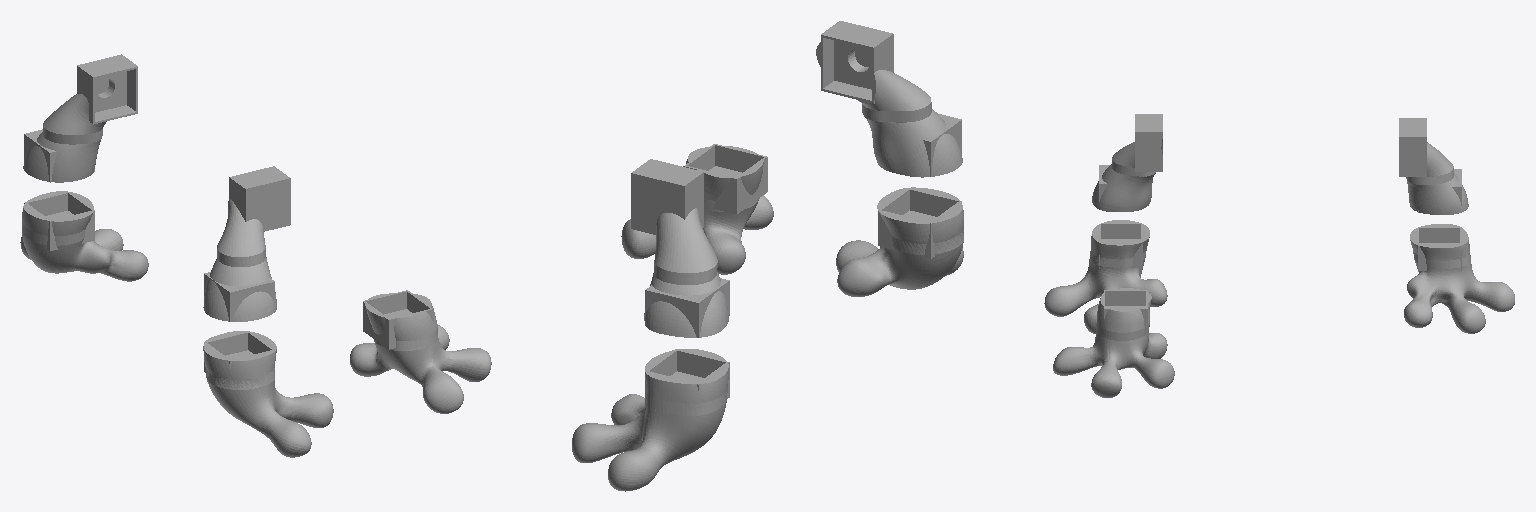
URDF robot description (FrogBot1_top-FrogBot1-x-2_bottom-FrogBot1-x-2):
<?xml version="1.0" ?>
<robot name="FrogBot1_top-FrogBot1-x-2_bottom-FrogBot1-x-2">

<material name="pla_5_percent_infill">
  <color rgba="0.700 0.700 0.700 1.000"/>
</material>

<link name="base_link">
  <inertial>
    <origin xyz="0 0 0" rpy="0 0 0"/>
    <mass value="1.4103143072721238"/>
    <inertia ixx="0.004671865419262023" iyy="0.01102984328633242" izz="0.011972094032648898" ixy="0.00015185420958179873" iyz="8.583160306759328e-05" ixz="-0.0012132770853355082"/>
  </inertial>
  <visual>
    <origin xyz="0 0 0" rpy="0 0 0"/>
    <geometry>
      <mesh filename="simple_meshes/base_link.stl" scale="0.001 0.001 0.001"/>
    </geometry>
    <material name="pla_5_percent_infill"/>
  </visual>
  <collision>
    <origin xyz="0 0 0" rpy="0 0 0"/>
    <geometry>
      <mesh filename="simple_meshes/base_link.stl" scale="0.001 0.001 0.001"/>
    </geometry>
  </collision>
</link>

<link name="body_1_0_1">
  <inertial>
    <origin xyz="-0.045735 -0.109621 -0.00462" rpy="0 0 0"/>
    <mass value="0.03484160030997429"/>
    <inertia ixx="2.903697898275757e-05" iyy="3.104325005473165e-05" izz="1.3532378195367945e-05" ixy="-4.11931829958159e-07" iyz="2.4187383565985482e-06" ixz="4.625253965977592e-07"/>
  </inertial>
  <visual>
    <origin xyz="-0.045735 -0.109621 -0.00462" rpy="0 0 0"/>
    <geometry>
      <mesh filename="simple_meshes/body_1_0_1.stl" scale="0.001 0.001 0.001"/>
    </geometry>
    <material name="pla_5_percent_infill"/>
  </visual>
  <collision>
    <origin xyz="-0.045735 -0.109621 -0.00462" rpy="0 0 0"/>
    <geometry>
      <mesh filename="simple_meshes/body_1_0_1.stl" scale="0.001 0.001 0.001"/>
    </geometry>
  </collision>
</link>

<link name="body_1_1_1">
  <inertial>
    <origin xyz="0.086489 -0.109621 -0.018802" rpy="0 0 0"/>
    <mass value="0.06148854294203133"/>
    <inertia ixx="5.855490218398588e-05" iyy="6.613275433003084e-05" izz="3.81438148724521e-05" ixy="5.75078924560735e-06" iyz="1.1027810340099209e-05" ixz="-1.7049103165392508e-05"/>
  </inertial>
  <visual>
    <origin xyz="0.086489 -0.109621 -0.018802" rpy="0 0 0"/>
    <geometry>
      <mesh filename="simple_meshes/body_1_1_1.stl" scale="0.001 0.001 0.001"/>
    </geometry>
    <material name="pla_5_percent_infill"/>
  </visual>
  <collision>
    <origin xyz="0.086489 -0.109621 -0.018802" rpy="0 0 0"/>
    <geometry>
      <mesh filename="simple_meshes/body_1_1_1.stl" scale="0.001 0.001 0.001"/>
    </geometry>
  </collision>
</link>

<link name="body_1_2_1">
  <inertial>
    <origin xyz="-0.040267 0.109621 -0.027764" rpy="0 0 0"/>
    <mass value="0.046522195302190976"/>
    <inertia ixx="6.03733340548251e-05" iyy="5.952994351581645e-05" izz="2.1298690794725782e-05" ixy="5.754947808993033e-07" iyz="-1.1443405405403087e-05" ixz="-1.6904263786305624e-07"/>
  </inertial>
  <visual>
    <origin xyz="-0.040267 0.109621 -0.027764" rpy="0 0 0"/>
    <geometry>
      <mesh filename="simple_meshes/body_1_2_1.stl" scale="0.001 0.001 0.001"/>
    </geometry>
    <material name="pla_5_percent_infill"/>
  </visual>
  <collision>
    <origin xyz="-0.040267 0.109621 -0.027764" rpy="0 0 0"/>
    <geometry>
      <mesh filename="simple_meshes/body_1_2_1.stl" scale="0.001 0.001 0.001"/>
    </geometry>
  </collision>
</link>

<link name="body_1_3_1">
  <inertial>
    <origin xyz="0.090407 0.109621 -0.022193" rpy="0 0 0"/>
    <mass value="0.06334451829429341"/>
    <inertia ixx="6.51772427705062e-05" iyy="7.495684636025872e-05" izz="4.2780508319036244e-05" ixy="-7.128956469788263e-06" iyz="-1.3523874840459988e-05" ixz="-2.071422252416895e-05"/>
  </inertial>
  <visual>
    <origin xyz="0.090407 0.109621 -0.022193" rpy="0 0 0"/>
    <geometry>
      <mesh filename="simple_meshes/body_1_3_1.stl" scale="0.001 0.001 0.001"/>
    </geometry>
    <material name="pla_5_percent_infill"/>
  </visual>
  <collision>
    <origin xyz="0.090407 0.109621 -0.022193" rpy="0 0 0"/>
    <geometry>
      <mesh filename="simple_meshes/body_1_3_1.stl" scale="0.001 0.001 0.001"/>
    </geometry>
  </collision>
</link>

<link name="body_2_0_1">
  <inertial>
    <origin xyz="-0.049562 -0.159797 0.085064" rpy="0 0 0"/>
    <mass value="0.09238338507746115"/>
    <inertia ixx="9.680433658144048e-05" iyy="0.00010692101717365123" izz="0.00012948061318948483" ixy="-4.585259395726779e-06" iyz="-1.2914344639219227e-06" ixz="2.3453652289436543e-05"/>
  </inertial>
  <visual>
    <origin xyz="-0.049562 -0.159797 0.085064" rpy="0 0 0"/>
    <geometry>
      <mesh filename="simple_meshes/body_2_0_1.stl" scale="0.001 0.001 0.001"/>
    </geometry>
    <material name="pla_5_percent_infill"/>
  </visual>
  <collision>
    <origin xyz="-0.049562 -0.159797 0.085064" rpy="0 0 0"/>
    <geometry>
      <mesh filename="simple_meshes/body_2_0_1.stl" scale="0.001 0.001 0.001"/>
    </geometry>
  </collision>
</link>

<link name="body_2_1_1">
  <inertial>
    <origin xyz="0.121182 -0.173952 0.085064" rpy="0 0 0"/>
    <mass value="0.09715254191378893"/>
    <inertia ixx="0.00010103337875760465" iyy="0.00010812583804075153" izz="0.00013283976961591445" ixy="1.682015658884808e-06" iyz="1.4158771556950066e-05" ixz="2.864226009702416e-05"/>
  </inertial>
  <visual>
    <origin xyz="0.121182 -0.173952 0.085064" rpy="0 0 0"/>
    <geometry>
      <mesh filename="simple_meshes/body_2_1_1.stl" scale="0.001 0.001 0.001"/>
    </geometry>
    <material name="pla_5_percent_infill"/>
  </visual>
  <collision>
    <origin xyz="0.121182 -0.173952 0.085064" rpy="0 0 0"/>
    <geometry>
      <mesh filename="simple_meshes/body_2_1_1.stl" scale="0.001 0.001 0.001"/>
    </geometry>
  </collision>
</link>

<link name="body_2_2_1">
  <inertial>
    <origin xyz="-0.04311 0.170506 0.085064" rpy="0 0 0"/>
    <mass value="0.09423382627998292"/>
    <inertia ixx="0.0001057891791990213" iyy="9.824815309707104e-05" izz="0.00013224377354452638" ixy="9.104081632083268e-07" iyz="-6.2243797675221035e-06" ixz="1.652673795358333e-05"/>
  </inertial>
  <visual>
    <origin xyz="-0.04311 0.170506 0.085064" rpy="0 0 0"/>
    <geometry>
      <mesh filename="simple_meshes/body_2_2_1.stl" scale="0.001 0.001 0.001"/>
    </geometry>
    <material name="pla_5_percent_infill"/>
  </visual>
  <collision>
    <origin xyz="-0.04311 0.170506 0.085064" rpy="0 0 0"/>
    <geometry>
      <mesh filename="simple_meshes/body_2_2_1.stl" scale="0.001 0.001 0.001"/>
    </geometry>
  </collision>
</link>

<link name="body_2_3_1">
  <inertial>
    <origin xyz="0.129712 0.175384 0.085064" rpy="0 0 0"/>
    <mass value="0.09538323554010072"/>
    <inertia ixx="0.00010818954833316866" iyy="0.0001026460488982384" izz="0.0001233985078477563" ixy="4.960638871788839e-06" iyz="-1.988995231707322e-05" ixz="2.8267705788044984e-05"/>
  </inertial>
  <visual>
    <origin xyz="0.129712 0.175384 0.085064" rpy="0 0 0"/>
    <geometry>
      <mesh filename="simple_meshes/body_2_3_1.stl" scale="0.001 0.001 0.001"/>
    </geometry>
    <material name="pla_5_percent_infill"/>
  </visual>
  <collision>
    <origin xyz="0.129712 0.175384 0.085064" rpy="0 0 0"/>
    <geometry>
      <mesh filename="simple_meshes/body_2_3_1.stl" scale="0.001 0.001 0.001"/>
    </geometry>
  </collision>
</link>

<joint name="joint_1_0" type="revolute">
  <origin xyz="0.045735 0.109621 0.00462" rpy="0 0 0"/>
  <parent link="base_link"/>
  <child link="body_1_0_1"/>
  <axis xyz="1.0 0.0 0.0"/>
  <limit upper="1.2" lower="-1.2" effort="3.8" velocity="5.4"/>
</joint>
<transmission name="joint_1_0_tran">
  <type>transmission_interface/SimpleTransmission</type>
  <joint name="joint_1_0">
    <hardwareInterface>PositionJointInterface</hardwareInterface>
  </joint>
  <actuator name="joint_1_0_actr">
    <hardwareInterface>PositionJointInterface</hardwareInterface>
    <mechanicalReduction>1</mechanicalReduction>
  </actuator>
</transmission>

<joint name="joint_1_1" type="revolute">
  <origin xyz="-0.086489 0.109621 0.018802" rpy="0 0 0"/>
  <parent link="base_link"/>
  <child link="body_1_1_1"/>
  <axis xyz="1.0 0.0 0.0"/>
  <limit upper="1.2" lower="-1.2" effort="3.8" velocity="5.4"/>
</joint>
<transmission name="joint_1_1_tran">
  <type>transmission_interface/SimpleTransmission</type>
  <joint name="joint_1_1">
    <hardwareInterface>PositionJointInterface</hardwareInterface>
  </joint>
  <actuator name="joint_1_1_actr">
    <hardwareInterface>PositionJointInterface</hardwareInterface>
    <mechanicalReduction>1</mechanicalReduction>
  </actuator>
</transmission>

<joint name="joint_1_2" type="revolute">
  <origin xyz="0.040267 -0.109621 0.027764" rpy="0 0 0"/>
  <parent link="base_link"/>
  <child link="body_1_2_1"/>
  <axis xyz="1.0 0.0 0.0"/>
  <limit upper="1.2" lower="-1.2" effort="3.8" velocity="5.4"/>
</joint>
<transmission name="joint_1_2_tran">
  <type>transmission_interface/SimpleTransmission</type>
  <joint name="joint_1_2">
    <hardwareInterface>PositionJointInterface</hardwareInterface>
  </joint>
  <actuator name="joint_1_2_actr">
    <hardwareInterface>PositionJointInterface</hardwareInterface>
    <mechanicalReduction>1</mechanicalReduction>
  </actuator>
</transmission>

<joint name="joint_1_3" type="revolute">
  <origin xyz="-0.090407 -0.109621 0.022193" rpy="0 0 0"/>
  <parent link="base_link"/>
  <child link="body_1_3_1"/>
  <axis xyz="1.0 0.0 0.0"/>
  <limit upper="1.2" lower="-1.2" effort="3.8" velocity="5.4"/>
</joint>
<transmission name="joint_1_3_tran">
  <type>transmission_interface/SimpleTransmission</type>
  <joint name="joint_1_3">
    <hardwareInterface>PositionJointInterface</hardwareInterface>
  </joint>
  <actuator name="joint_1_3_actr">
    <hardwareInterface>PositionJointInterface</hardwareInterface>
    <mechanicalReduction>1</mechanicalReduction>
  </actuator>
</transmission>

<joint name="joint_2_0" type="revolute">
  <origin xyz="0.003827 0.050176 -0.089684" rpy="0 0 0"/>
  <parent link="body_1_0_1"/>
  <child link="body_2_0_1"/>
  <axis xyz="1.0 0.0 0.0"/>
  <limit upper="1.2" lower="-1.2" effort="3.8" velocity="5.4"/>
</joint>
<transmission name="joint_2_0_tran">
  <type>transmission_interface/SimpleTransmission</type>
  <joint name="joint_2_0">
    <hardwareInterface>PositionJointInterface</hardwareInterface>
  </joint>
  <actuator name="joint_2_0_actr">
    <hardwareInterface>PositionJointInterface</hardwareInterface>
    <mechanicalReduction>1</mechanicalReduction>
  </actuator>
</transmission>

<joint name="joint_2_1" type="revolute">
  <origin xyz="-0.034693 0.064331 -0.103866" rpy="0 0 0"/>
  <parent link="body_1_1_1"/>
  <child link="body_2_1_1"/>
  <axis xyz="1.0 0.0 0.0"/>
  <limit upper="1.2" lower="-1.2" effort="3.8" velocity="5.4"/>
</joint>
<transmission name="joint_2_1_tran">
  <type>transmission_interface/SimpleTransmission</type>
  <joint name="joint_2_1">
    <hardwareInterface>PositionJointInterface</hardwareInterface>
  </joint>
  <actuator name="joint_2_1_actr">
    <hardwareInterface>PositionJointInterface</hardwareInterface>
    <mechanicalReduction>1</mechanicalReduction>
  </actuator>
</transmission>

<joint name="joint_2_2" type="revolute">
  <origin xyz="0.002843 -0.060885 -0.112828" rpy="0 0 0"/>
  <parent link="body_1_2_1"/>
  <child link="body_2_2_1"/>
  <axis xyz="1.0 0.0 0.0"/>
  <limit upper="1.2" lower="-1.2" effort="3.8" velocity="5.4"/>
</joint>
<transmission name="joint_2_2_tran">
  <type>transmission_interface/SimpleTransmission</type>
  <joint name="joint_2_2">
    <hardwareInterface>PositionJointInterface</hardwareInterface>
  </joint>
  <actuator name="joint_2_2_actr">
    <hardwareInterface>PositionJointInterface</hardwareInterface>
    <mechanicalReduction>1</mechanicalReduction>
  </actuator>
</transmission>

<joint name="joint_2_3" type="revolute">
  <origin xyz="-0.039305 -0.065763 -0.107257" rpy="0 0 0"/>
  <parent link="body_1_3_1"/>
  <child link="body_2_3_1"/>
  <axis xyz="1.0 0.0 0.0"/>
  <limit upper="1.2" lower="-1.2" effort="3.8" velocity="5.4"/>
</joint>
<transmission name="joint_2_3_tran">
  <type>transmission_interface/SimpleTransmission</type>
  <joint name="joint_2_3">
    <hardwareInterface>PositionJointInterface</hardwareInterface>
  </joint>
  <actuator name="joint_2_3_actr">
    <hardwareInterface>PositionJointInterface</hardwareInterface>
    <mechanicalReduction>1</mechanicalReduction>
  </actuator>
</transmission>

</robot>

--- What the picture shows (computed from the rendered views, not written in the file) ---
Views: 3 orthographic renders of the robot side by side, from view 1: azimuth 30°, elevation 25°; view 2: azimuth 150°, elevation 25°; view 3: azimuth 270°, elevation 25°.
Model FrogBot1_top-FrogBot1-x-2_bottom-FrogBot1-x-2 with 9 links and 8 joints (8 revolute), rooted at base_link, posed every joint at zero.
Links seen in each view (by area): view 1: body_2_2_1, body_1_3_1, body_2_3_1, body_1_1_1, body_2_1_1; view 2: body_2_1_1, body_1_1_1, body_1_3_1, body_2_3_1, body_2_2_1; view 3: body_2_1_1, body_2_2_1, body_2_3_1, body_1_3_1, body_1_1_1.
Link boxes in pixels (x1,y1,x2,y2): body_2_2_1: [350, 290, 491, 413]; body_1_3_1: [203, 166, 290, 321]; body_2_3_1: [203, 331, 333, 457]; body_1_1_1: [23, 54, 137, 182]; body_2_1_1: [20, 191, 148, 281]; body_2_1_1: [572, 349, 729, 491]; body_1_1_1: [631, 159, 729, 337]; body_1_3_1: [816, 21, 962, 177]; body_2_3_1: [836, 187, 963, 296]; body_2_2_1: [621, 144, 773, 274]; body_2_1_1: [1404, 224, 1514, 333]; body_2_2_1: [1053, 288, 1174, 397]; body_2_3_1: [1044, 220, 1167, 333]; body_1_3_1: [1092, 114, 1162, 211]; body_1_1_1: [1399, 118, 1468, 214].
Bounding box of the posed robot: 0.2927 × 0.5165 × 0.2418 m (x, y, z).
Meshes: 9 distinct files referenced, 5 mesh visuals loaded (5 binary STL); not drawn: 4 (reference not matched to a file when rendering).